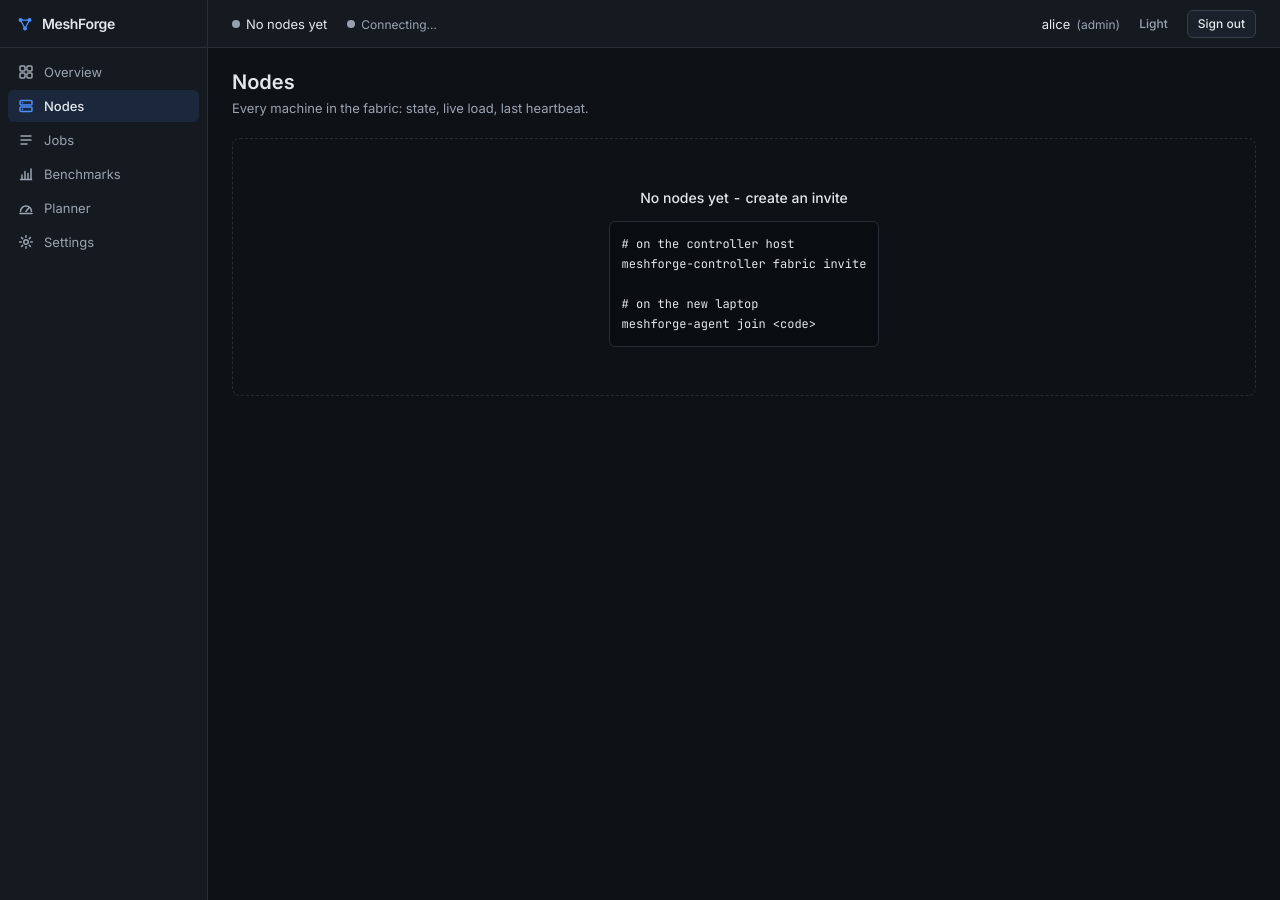
Test case: T2: sign-out race › sign-out while the controller is down: still lands on login, with a toast, cache cleared
Expected: the element with test id "current-user" is shown, top-left (1042, 14), bottom-right (1120, 34)
Click the button "Sign out" at x=1221, y=24, box top-left (1187, 10), bottom-right (1256, 38)
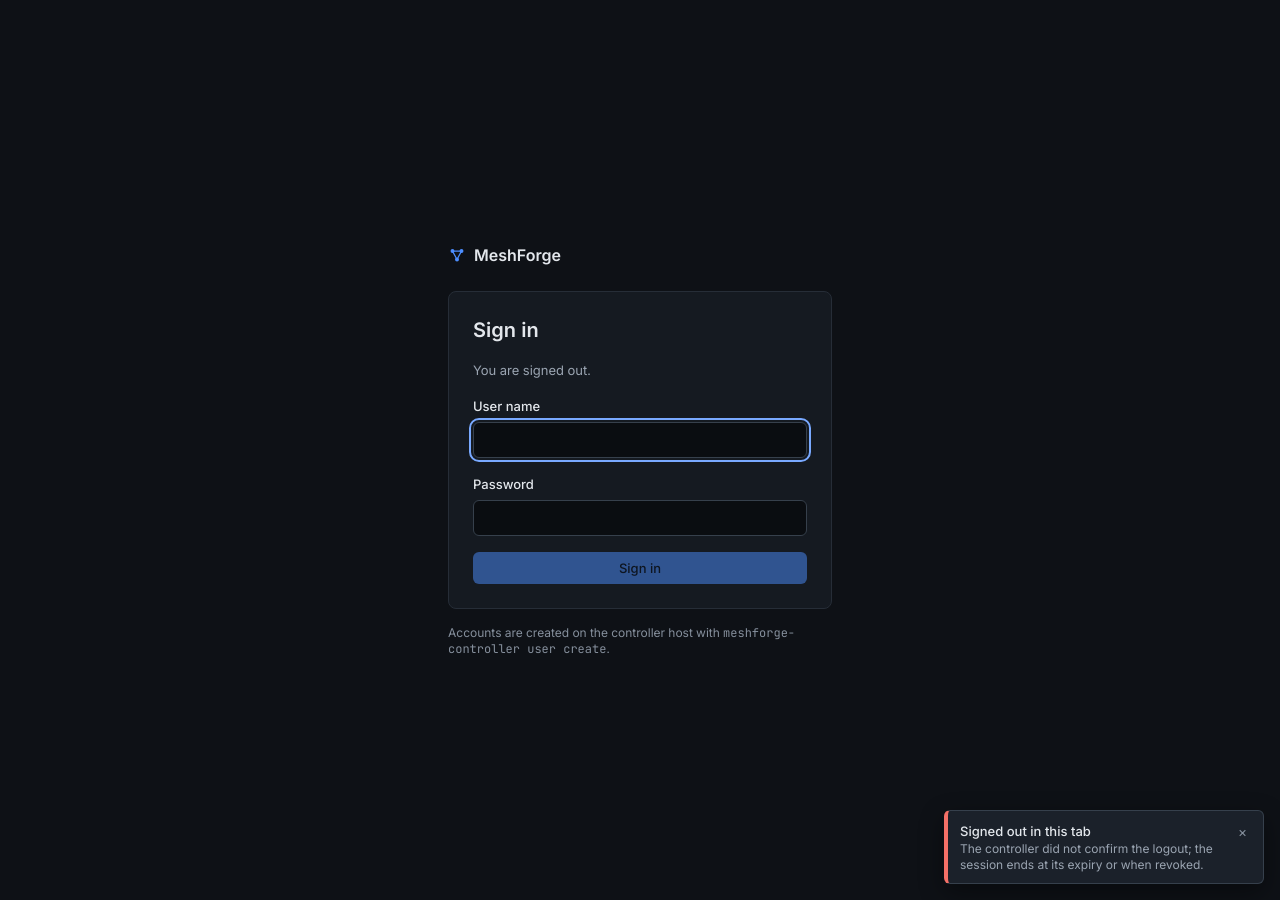
Expected: the heading "Sign in" is shown, top-left (473, 318), bottom-right (539, 342)
